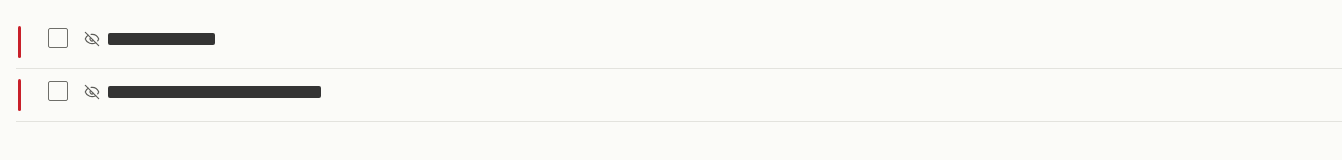
desktop: hidden by default › reveals only the one clicked
Click the 1st button named "Private task, hidden. Activate to show.".
click(161, 39)  # box [80,16,1338,62]
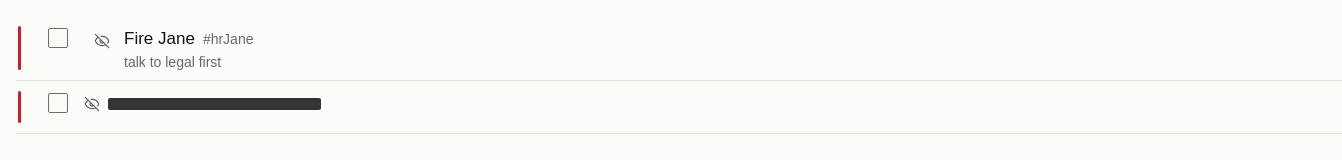
Now the text "Fire Jane" is shown, box [121,29,198,48]
